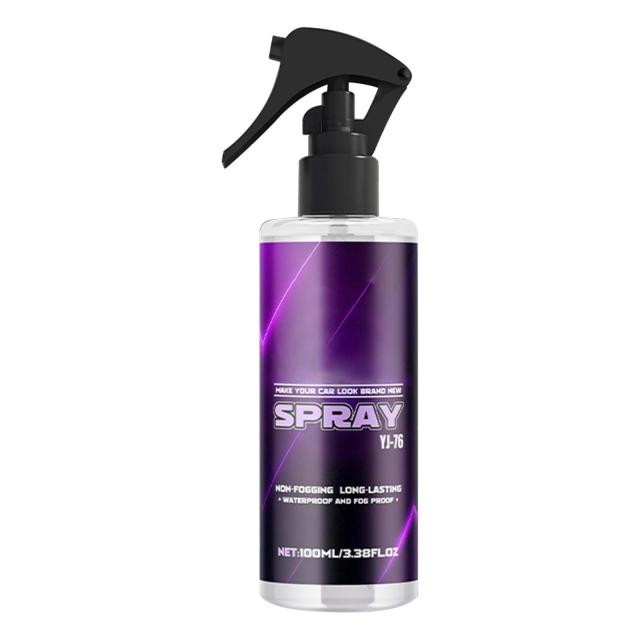winwinshield_washer: (219, 23, 427, 614)
